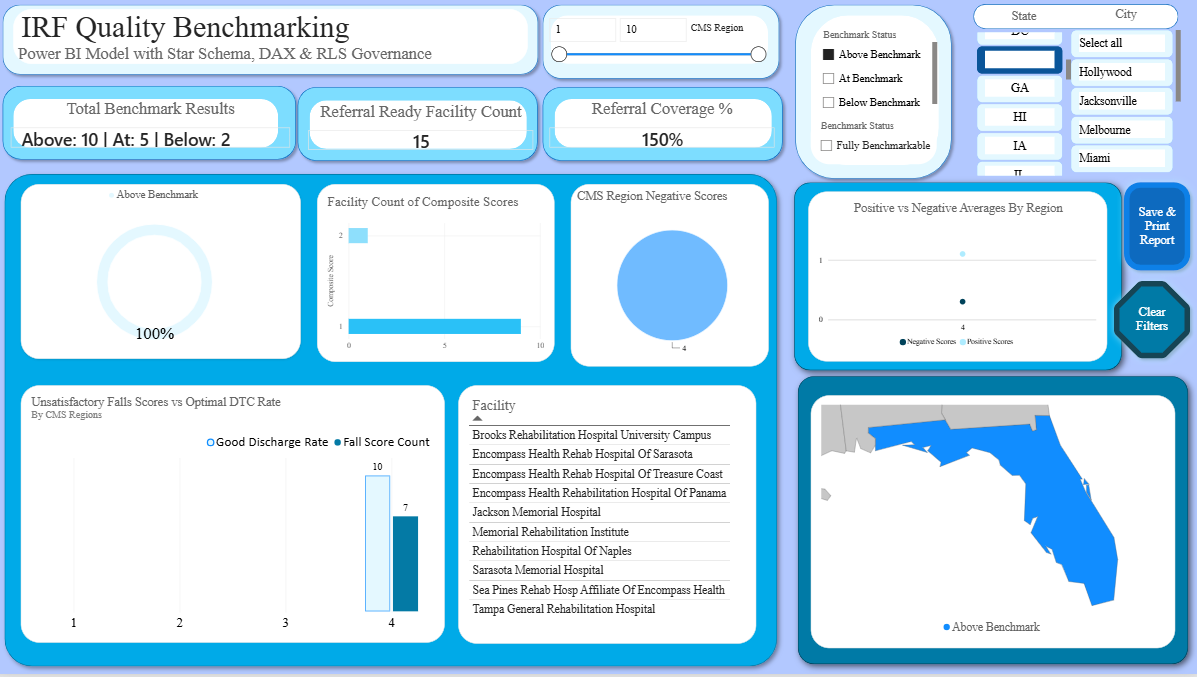

Layout of this report page (visuals, bound fields, positions):
{"tool":"powerbi","page":{"name":"Dashboard","canvas":[1920,1080],"ordinal":0},"visuals":[{"type":"shape","box":[0,0,875,130],"z":0},{"type":"shape","box":[0,130.4,487.2,135.8],"z":1000},{"type":"textbox","box":[25,16.7,823.3,88.3],"z":2000},{"type":"shape","box":[25.4,159.4,423.8,77.9],"z":3000},{"type":"cardVisual","title":"Total Benchmark Results","fields":{"Data":["irf_composite_index.Composite KPI Summary"]},"box":[21.7,159.4,447.4,77.9],"z":4000},{"type":"shape","box":[472.8,132.2,402.1,135.8],"z":5000},{"type":"shape","box":[499.9,161.2,347.8,77.9],"z":6000},{"type":"cardVisual","title":"Referral Ready Facility Count","fields":{"Data":["irf_composite_index.Referral-Ready Facilities"]},"box":[498.1,163,360.5,77.9],"z":7000},{"type":"shape","box":[864,132.2,402.1,135.8],"z":8000},{"type":"shape","box":[891.2,159.4,347.8,77.9],"z":9000},{"type":"shape","box":[0,268.3,1260,811.7],"z":10000},{"type":"cardVisual","title":"Referral Coverage %","fields":{"Data":["irf_composite_index.Referral Coverage %"]},"box":[883.9,159.4,360.5,77.9],"z":11000},{"type":"clusteredBarChart","title":"Facility Count of Composite Scores","fields":{"Category":["irf_composite_index.composite_score"],"Y":["CountNonNull(irf_composite_index.ccn)"]},"box":[511.7,296.7,380,285],"z":12000},{"type":"shape","box":[863.3,0,396.7,136.7],"z":13000},{"type":"shape","box":[886.7,26.7,347.8,77.9],"z":14000},{"type":"slicer","fields":{"Values":["irf_composite_index.cms_region"]},"box":[876.7,25,358.3,90],"z":15000},{"type":"textbox","box":[1110,35,105,35],"z":16000},{"type":"shape","box":[1268.3,0,268.3,296.7],"z":17000},{"type":"shape","box":[1301.7,25,205,240],"z":18000},{"type":"textbox","box":[1322,0,246,150],"z":19000},{"type":"shape","box":[1260,278.3,555,331.7],"z":20000},{"type":"slicer","fields":{"Values":["irf_composite_index.benchmark_status"]},"box":[1301.7,186.7,201.7,78.3],"z":21000},{"type":"slicer","fields":{"Values":["irf_composite_index.composite_score_measures"]},"box":[1313.3,48.3,190,131.7],"z":22000},{"type":"shape","box":[1561.7,8.3,328.3,40],"z":24000},{"type":"shape","box":[1265,588.3,655,491.7],"z":25000},{"type":"advancedSlicerVisual","title":"City","fields":{"Values":["irf_composite_index.city"]},"box":[1718.3,11.7,176.7,266.7],"z":26000},{"type":"advancedSlicerVisual","title":"State","fields":{"Values":["irf_composite_index.state"]},"box":[1568.3,15,150,266.7],"z":27000},{"type":"tableEx","title":"Facilities","fields":{"Values":["irf_composite_index.provider_name"]},"box":[738.3,618.3,476.7,413.3],"z":28000},{"type":"donutChart","fields":{"Series":["irf_composite_index.composite_score_measures"],"Y":["Divide(CountNonNull(irf_composite_index.composite_score_measures), ScopedEval(CountNonNull(irf_composite_index.composite"]},"box":[38.3,296.7,448.3,280],"z":29000},{"type":"clusteredColumnChart","title":"Unsatisfactory Falls Scores vs Optimal DTC Rate  ","fields":{"Category":["irf_composite_index.cms_region"],"Y":["CountNonNull(irf_facility_scorecard.dtc_rs_rate_pct)","Sum(irf_composite_index.falls_score)"]},"box":[38.3,618.3,678.3,411.7],"z":30000},{"type":"shapeMap","fields":{"Category":["irf_composite_index.state"],"Series":["irf_composite_index.composite_score_measures"]},"box":[1301.7,633.3,583.3,405],"z":31000},{"type":"pieChart","title":"CMS Region Negative Scores ","fields":{"Category":["irf_facility_scorecard.cms_region"],"Y":["CountNonNull(irf_composite_index.Negative Score Count)"]},"box":[918.3,296.7,316.7,291.7],"z":33000},{"type":"lineChart","title":" Positive vs Negative Averages By Region","fields":{"Category":["irf_facility_scorecard.cms_region"],"Y":["Avg(irf_composite_index.Negative Score Count)","Avg(irf_composite_index.composite_score)"]},"box":[1298.3,308.3,478.3,271.7],"z":34000},{"type":"actionButton","title":"Save & Print Report","box":[1792,282,128.3,163.3],"z":35000},{"type":"actionButton","title":"Save & Print Report","box":[1776,440,144,146],"z":35001}]}

Visuals, with their boxes in screenshot pixels (x1, y1, x2, y2), scaled from the page's 1920x1080 canvas onto the 1197x677 screenshot:
shape: 0, 0, 546, 81
shape: 0, 82, 304, 167
textbox: 16, 10, 529, 66
shape: 16, 100, 280, 149
"Total Benchmark Results" cardVisual: 14, 100, 292, 149
shape: 295, 83, 545, 168
shape: 312, 101, 528, 150
"Referral Ready Facility Count" cardVisual: 311, 102, 535, 151
shape: 539, 83, 789, 168
shape: 556, 100, 772, 149
shape: 0, 168, 786, 676
"Referral Coverage %" cardVisual: 551, 100, 776, 149
"Facility Count of Composite Scores" clusteredBarChart: 319, 186, 556, 365
shape: 538, 0, 786, 86
shape: 553, 17, 770, 66
slicer - irf_composite_index.cms_region: 547, 16, 770, 72
textbox: 692, 22, 757, 44
shape: 791, 0, 958, 186
shape: 812, 16, 939, 166
textbox: 824, 0, 978, 94
shape: 786, 174, 1132, 382
slicer - irf_composite_index.benchmark_status: 812, 117, 937, 166
slicer - irf_composite_index.composite_score_measures: 819, 30, 937, 113
shape: 974, 5, 1178, 30
shape: 789, 369, 1196, 676
"City" advancedSlicerVisual: 1071, 7, 1181, 175
"State" advancedSlicerVisual: 978, 9, 1071, 177
"Facilities" tableEx: 460, 388, 757, 647
donutChart - irf_composite_index.composite_score_measures x Divide(CountNonNull(irf_composite_index.composite_score_measures), ScopedEval(CountNonNull(irf_composite_index.composite: 24, 186, 303, 362
"Unsatisfactory Falls Scores vs Optimal DTC Rate  " clusteredColumnChart: 24, 388, 447, 646
shapeMap - irf_composite_index.state x irf_composite_index.composite_score_measures: 812, 397, 1175, 651
"CMS Region Negative Scores " pieChart: 573, 186, 770, 369
" Positive vs Negative Averages By Region" lineChart: 809, 193, 1108, 364
"Save & Print Report" actionButton: 1117, 177, 1196, 279
"Save & Print Report" actionButton: 1107, 276, 1196, 367
